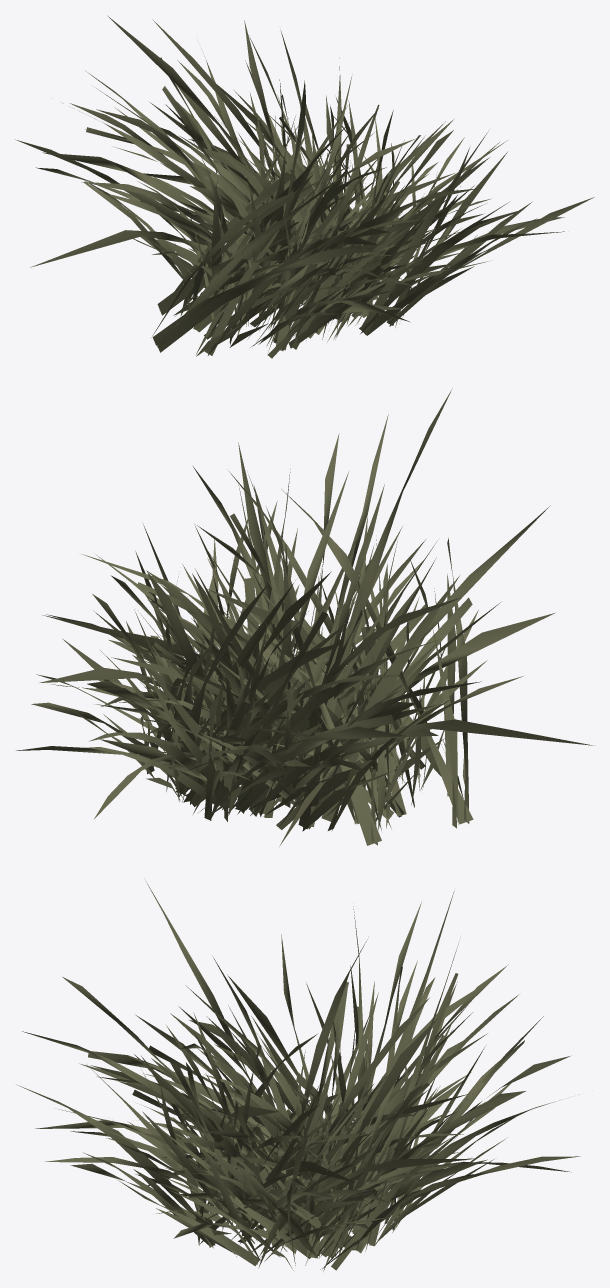
The model's file is GrassClump.fbx.
The picture shows the model from 3 angles, top to bottom: view 1: azimuth 30°, elevation 25°; view 2: azimuth 150°, elevation 25°; view 3: azimuth 270°, elevation 25°; orthographic projection. The views are drawn at different scales.
Parts seen in each view (by area): view 1: Grass; view 2: Grass; view 3: Grass.
Part boxes in pixels (x1,y1,x2,y2): Grass: (15, 15, 594, 358); Grass: (16, 390, 592, 846); Grass: (16, 878, 580, 1271).
Bounding box in the file's own units: 1.52 × 0.9309 × 1.56.
